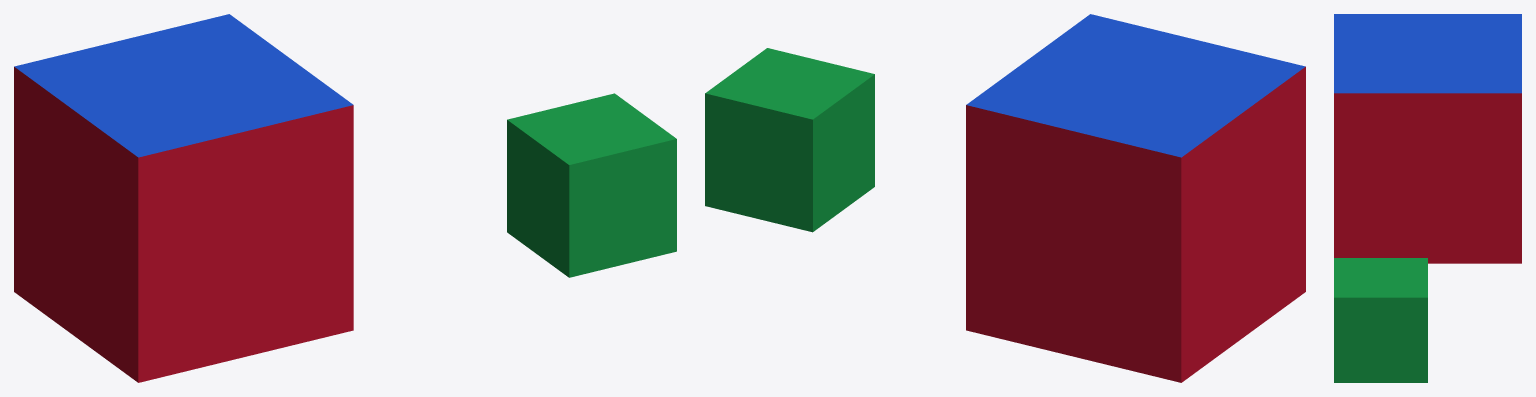
Rendered from two-bodies.glb.
3 renders of one model, left to right at view 1: azimuth 30°, elevation 25°; view 2: azimuth 150°, elevation 25°; view 3: azimuth 270°, elevation 25°, orthographic. The views are drawn at different scales.
Parts seen in each view (by area): view 1: Red, Green; view 2: Red, Green; view 3: Red, Green.
Boxes of the visible parts, box(x1,y1,x2,y2) form: Red: box(14, 14, 353, 382); Green: box(507, 93, 676, 277); Red: box(966, 14, 1305, 382); Green: box(705, 48, 874, 232); Red: box(1334, 14, 1521, 263); Green: box(1334, 258, 1427, 382).
Size of the model in its own units: 0.025 by 0.01 by 0.01.
